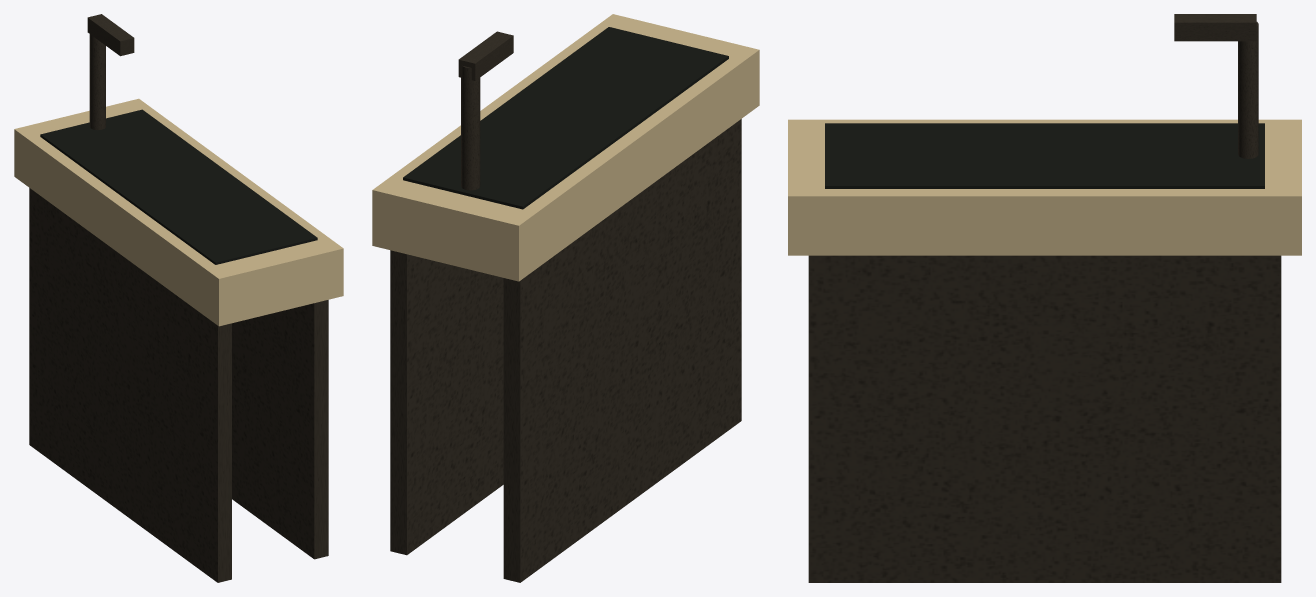
3 renders of one model, left to right at view 1: azimuth 30°, elevation 25°; view 2: azimuth 150°, elevation 25°; view 3: azimuth 270°, elevation 25°, orthographic. The views are drawn at different scales.
Parts seen in each view (by area): view 1: fixture-B-sink; view 2: fixture-B-sink; view 3: fixture-B-sink.
Part boxes in pixels (x1,y1,x2,y2): fixture-B-sink: [14, 14, 343, 582]; fixture-B-sink: [372, 14, 759, 582]; fixture-B-sink: [788, 14, 1301, 582].
Bounding box in the file's own units: 0.44 × 1.42 × 1.25.
3 materials, 1 textured.
